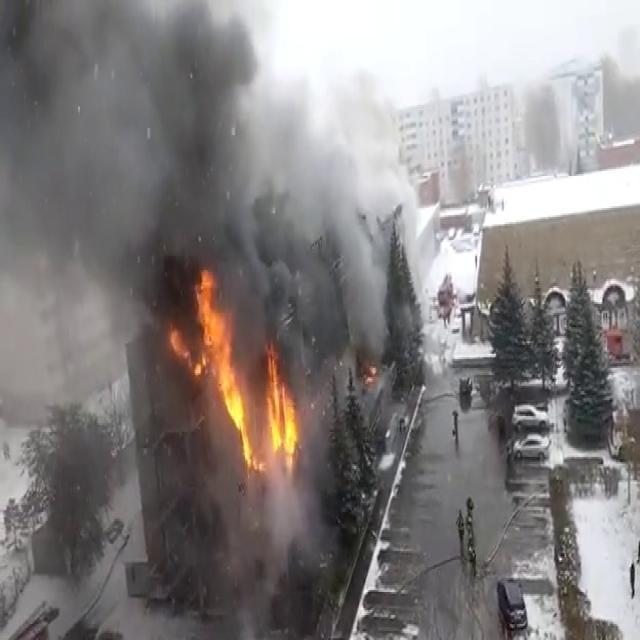Fire: (170, 265, 304, 480)
Smoke: (0, 0, 396, 476)
